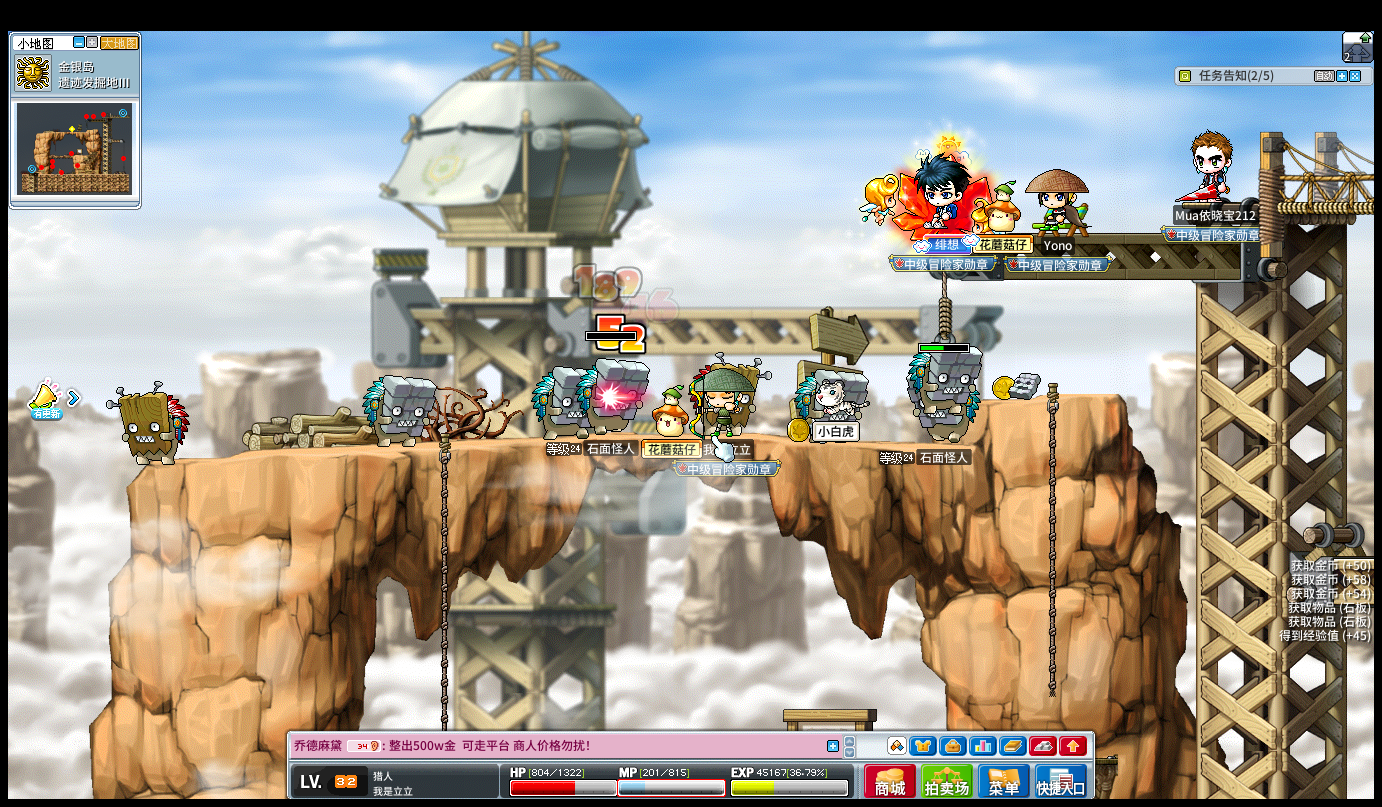floor: (163, 428, 1000, 453), (984, 388, 1125, 404)
monster: (906, 343, 983, 443), (110, 382, 192, 465), (362, 374, 436, 448), (577, 358, 648, 435), (531, 365, 582, 440)
rope: (436, 428, 450, 807), (1044, 379, 1059, 699), (438, 431, 451, 695)
